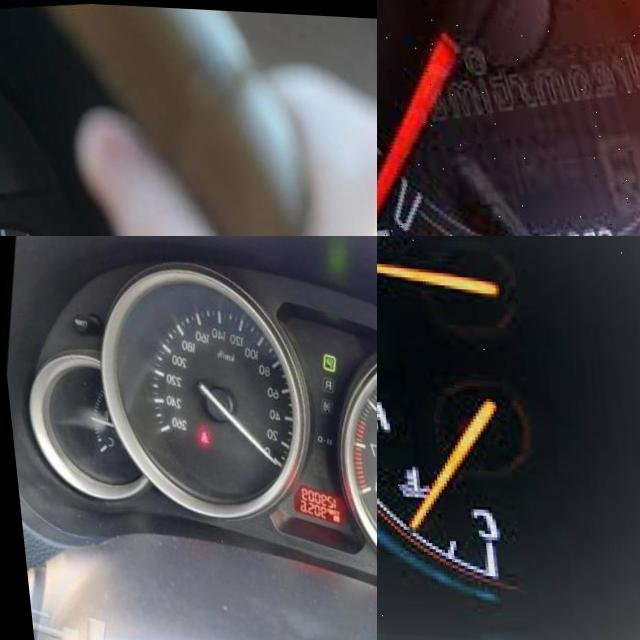Seat Belt: (191, 427, 204, 445)
